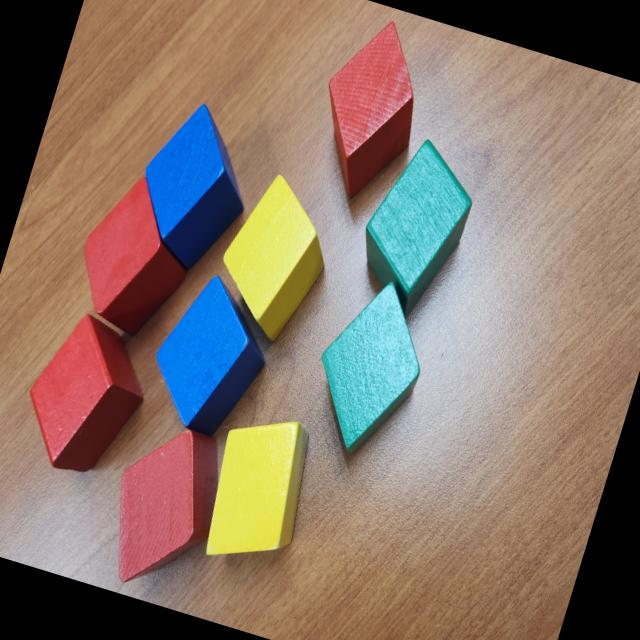blue: (120, 92, 270, 282), (135, 263, 287, 448)
green: (296, 268, 444, 468), (344, 128, 487, 328)
red: (292, 10, 443, 228), (91, 412, 241, 604), (11, 303, 162, 487), (63, 166, 211, 346)
yellow: (202, 165, 346, 352), (190, 402, 322, 579)
